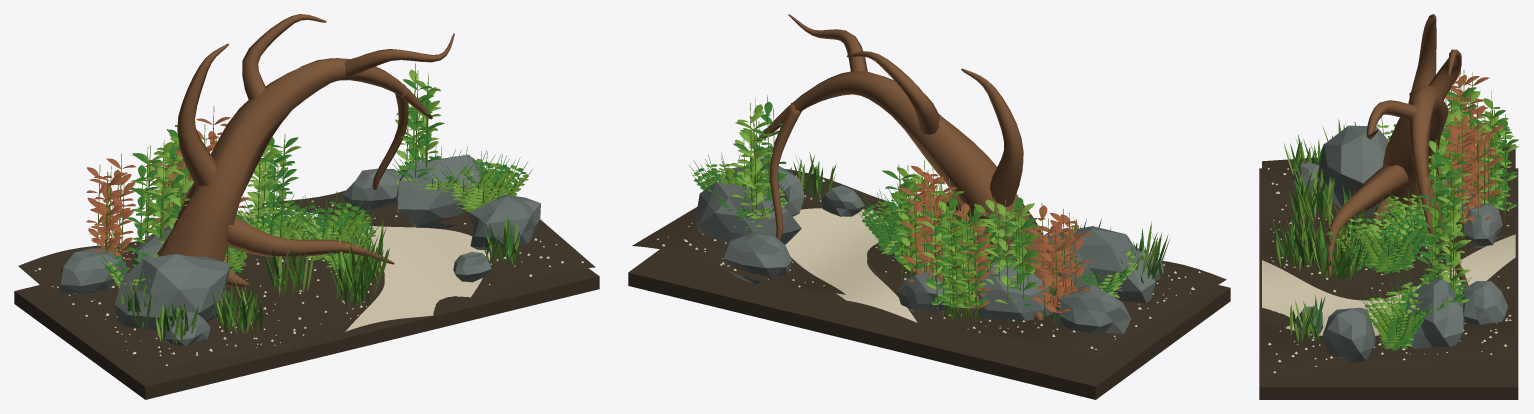
File: hardscape.glb
The picture shows the model from 3 angles, left to right: view 1: azimuth 30°, elevation 25°; view 2: azimuth 150°, elevation 25°; view 3: azimuth 270°, elevation 25°; orthographic projection. The views are drawn at different scales.
Visible parts, largest first — view 1: hardscape.wood.arch, bed.left, bed.foundation, bed.path, hardscape.stone.00, bed.right, hardscape.stone.04, plants.stem.015, hardscape.stone.05, plants.stem.009, plants.stem.021, plants.stem.027 (+27 smaller); view 2: bed.foundation, hardscape.wood.arch, bed.left, bed.path, bed.right, hardscape.stone.00, hardscape.stone.04, plants.stem.015, plants.stem.027, plants.stem.009, plants.stem.022, hardscape.stone.01 (+14 smaller); view 3: bed.foundation, hardscape.wood.arch, bed.right, bed.left, bed.path, hardscape.stone.00, plants.stem.020, plants.stem.027, hardscape.stone.04, hardscape.stone.05, plants.stem.016, plants.stem.021 (+35 smaller).
Boxes of the visible parts, box(x1,y1,x2,y2) form: hardscape.wood.arch: box(127, 14, 454, 286); bed.left: box(18, 230, 384, 376); bed.foundation: box(14, 215, 599, 399); bed.path: box(237, 211, 490, 331); hardscape.stone.00: box(115, 254, 230, 329); bed.right: box(262, 169, 595, 303); hardscape.stone.04: box(396, 154, 484, 229); plants.stem.015: box(86, 153, 135, 259); hardscape.stone.05: box(469, 194, 540, 253); plants.stem.009: box(126, 145, 187, 252); plants.stem.021: box(246, 134, 301, 231); plants.stem.027: box(395, 63, 444, 197); bed.foundation: box(628, 202, 1230, 399); hardscape.wood.arch: box(757, 14, 1070, 320); bed.left: box(867, 243, 1226, 358); bed.path: box(785, 208, 917, 322); bed.right: box(632, 169, 896, 294); hardscape.stone.00: box(1046, 226, 1155, 302); hardscape.stone.04: box(696, 181, 801, 244); plants.stem.015: box(1025, 203, 1091, 327); plants.stem.027: box(729, 95, 786, 233); plants.stem.009: box(980, 194, 1041, 321); plants.stem.022: box(938, 210, 988, 323); hardscape.stone.01: box(958, 259, 1052, 320); bed.foundation: box(1259, 168, 1518, 399); hardscape.wood.arch: box(1327, 14, 1468, 287); bed.right: box(1262, 257, 1515, 377); bed.left: box(1262, 144, 1515, 294); bed.path: box(1262, 234, 1515, 335); hardscape.stone.00: box(1317, 125, 1388, 216); plants.stem.020: box(1442, 100, 1504, 238); plants.stem.027: box(1413, 181, 1471, 305); hardscape.stone.04: box(1406, 277, 1464, 348); hardscape.stone.05: box(1323, 307, 1376, 362); plants.stem.016: box(1479, 90, 1518, 224); plants.stem.021: box(1418, 139, 1471, 253).
Size of the model in its own units: 0.588 by 0.3121 by 0.2953.
